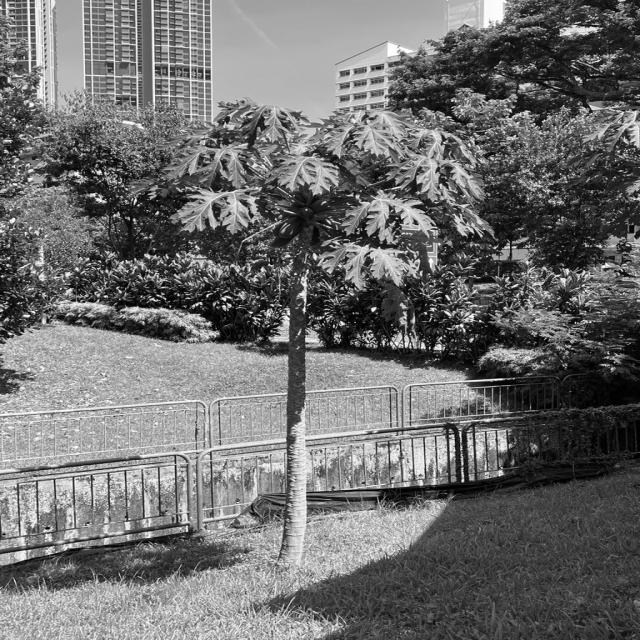Papaya-Tree: (165, 96, 478, 565)
